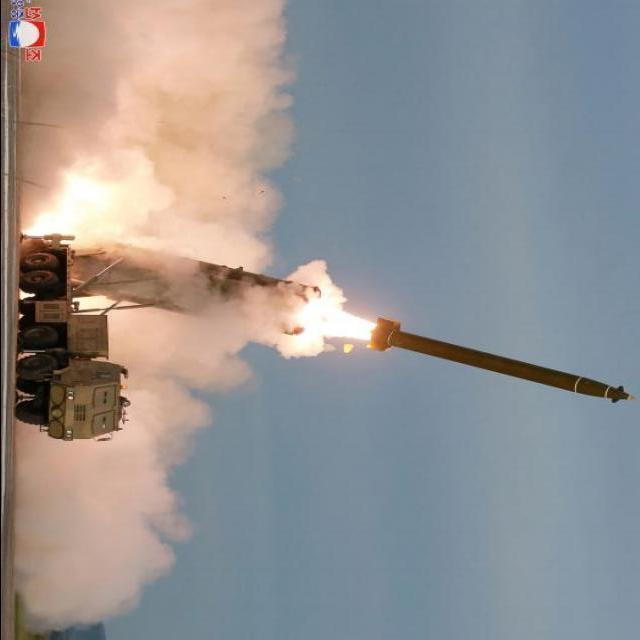missile: (365, 314, 626, 410)
